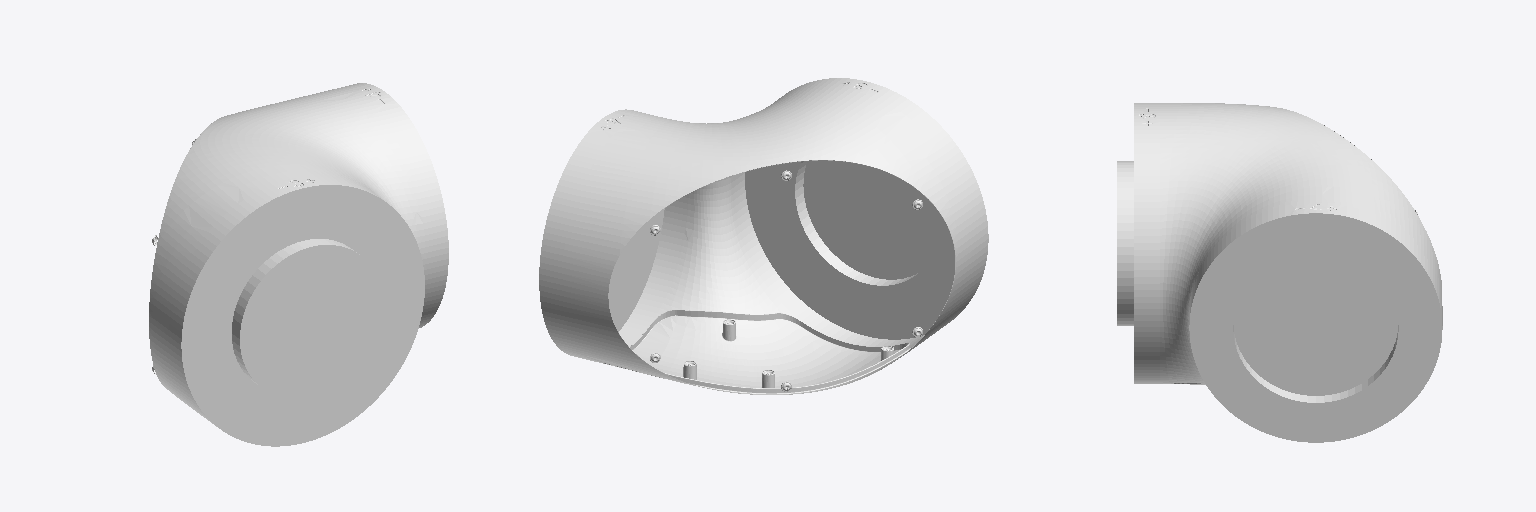
Rendered from geo-1e6ea37d-b1e6-4aed-8ce0-3244c6e21977.obj.
The picture shows the model from 3 angles: view 1: azimuth 30°, elevation 25°; view 2: azimuth 150°, elevation 25°; view 3: azimuth 270°, elevation 25°; orthographic projection.
Parts seen in each view (by area): view 1: 0; view 2: 0, 1; view 3: 0.
Part boxes in pixels (x1,y1,x2,y2): 0: (149, 83, 448, 446); 0: (539, 78, 988, 394); 1: (650, 170, 922, 391); 0: (1117, 103, 1442, 442).
Bounding box in the file's own units: 206 × 170 × 196.